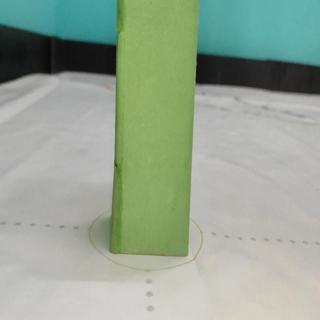greenbox: (111, 1, 200, 254)
